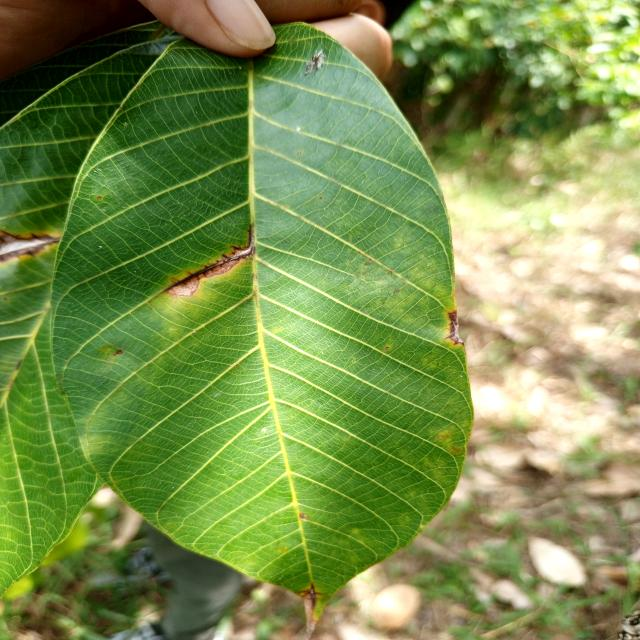Colletotrichum: (97, 196, 102, 200), (386, 347, 388, 350)
Corynespora: (160, 225, 256, 292)
